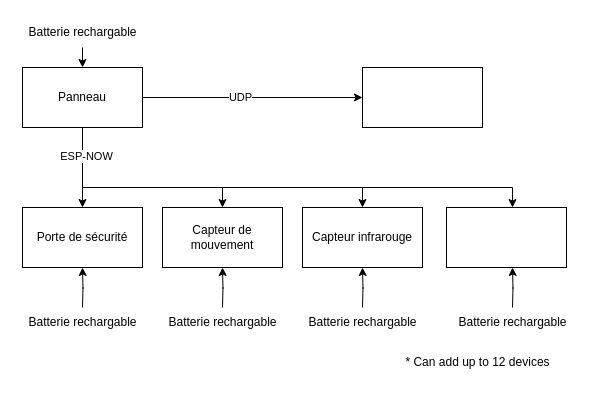
This 594x394 diagram has some shape labels left out. Each missing label, with the centre of its shape:
"Cellulaire" belongs at point 422,97.
"Extra capteur*" belongs at point 506,237.
